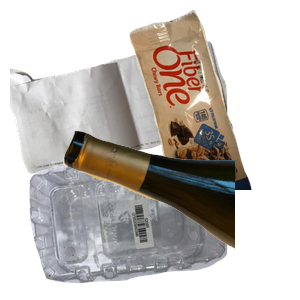glass: (60, 128, 300, 300)
paper: (10, 39, 236, 205)
plastic: (27, 152, 247, 300)
trash: (127, 10, 300, 190)
